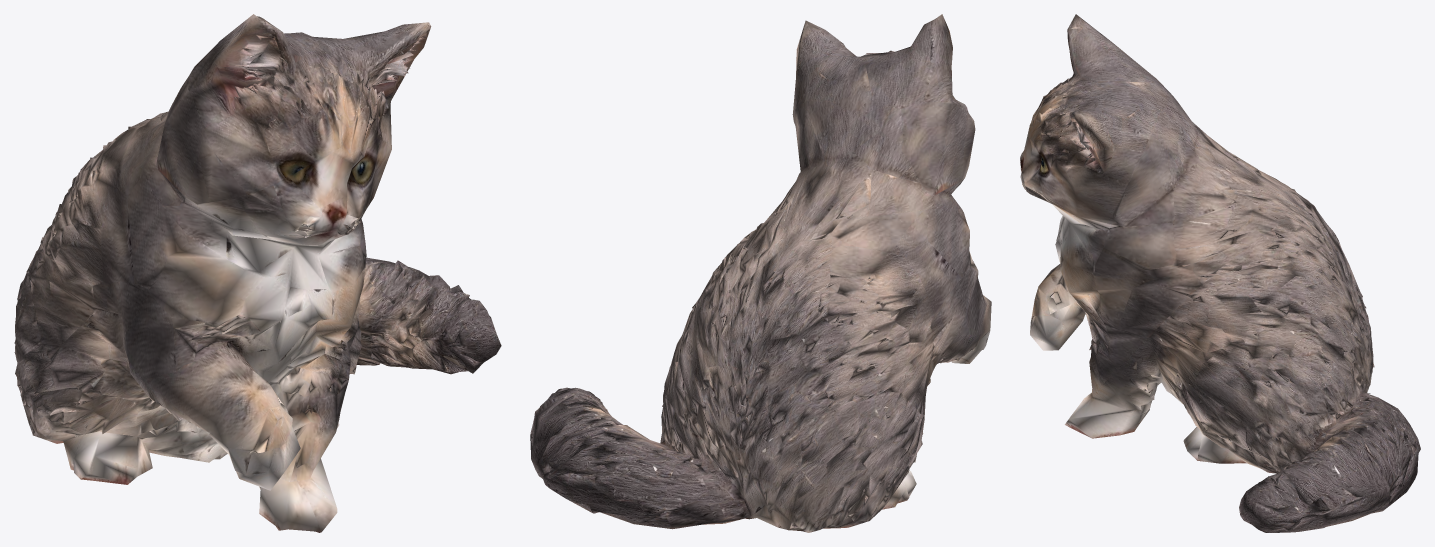
The model's file is kitten.glb.
3 renders of one model, left to right at view 1: azimuth 30°, elevation 25°; view 2: azimuth 150°, elevation 25°; view 3: azimuth 270°, elevation 25°, orthographic. The views are drawn at different scales.
Visible parts, largest first — view 1: kitten; view 2: kitten; view 3: kitten.
Boxes of the visible parts, left/top/right/bottom form: kitten: left=14, top=14, right=501, bottom=532; kitten: left=530, top=14, right=991, bottom=532; kitten: left=1020, top=14, right=1420, bottom=532.
Size of the model in its own units: 0.2301 by 0.2492 by 0.2317.
1 material, 1 textured.
